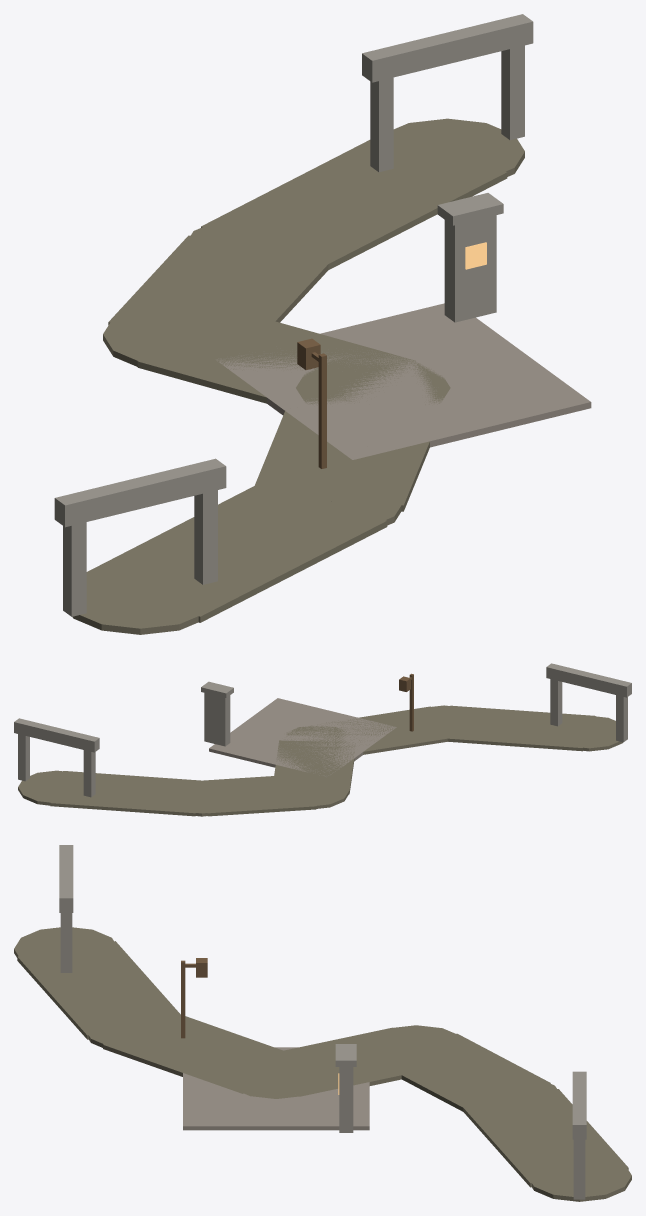
3 views of the same model, one above another, from view 1: azimuth 30°, elevation 25°; view 2: azimuth 150°, elevation 25°; view 3: azimuth 270°, elevation 25° (orthographic). The views are drawn at different scales.
Parts seen in each view (by area): view 1: walk_disc.001, walk_seg.015, walk_seg.019, walk_seg.017, walk_seg.018, walk_node.024, walk_node.023, walk_node.025, walk_node.021, exit_arch.006, exit_arch.007, walk_seg.016 (+9 smaller); view 2: walk_disc.001, walk_seg.019, walk_seg.015, walk_seg.017, walk_seg.018, walk_seg.016, walk_node.021, walk_node.025, exit_arch.006, exit_arch.007, walk_node.020, waystone (+9 smaller); view 3: walk_disc.001, walk_seg.018, walk_seg.015, walk_seg.016, walk_seg.019, walk_seg.017, walk_node.021, walk_node.020, walk_node.025, walk_node.022, walk_node.024, exit_arch.007 (+6 smaller).
Boxes of the visible parts, x1,y1,x2,y2 form: walk_disc.001: (216, 303, 591, 459); walk_seg.015: (86, 479, 387, 622); walk_seg.019: (201, 133, 507, 269); walk_seg.017: (137, 307, 415, 403); walk_seg.018: (108, 235, 332, 336); walk_node.024: (183, 214, 337, 279); walk_node.023: (103, 301, 257, 366); walk_node.025: (387, 118, 524, 183); walk_node.021: (250, 467, 404, 532); exit_arch.006: (54, 458, 226, 527); exit_arch.007: (362, 14, 533, 82); walk_seg.016: (255, 411, 429, 511); walk_disc.001: (209, 698, 396, 776); walk_seg.019: (50, 771, 207, 816); walk_seg.015: (438, 705, 595, 751); walk_seg.017: (272, 740, 355, 794); walk_seg.018: (196, 776, 316, 816); walk_seg.016: (317, 706, 447, 754); walk_node.021: (406, 705, 482, 737); walk_node.025: (18, 770, 86, 805); exit_arch.006: (546, 663, 631, 697); exit_arch.007: (14, 718, 99, 752); walk_node.020: (552, 715, 622, 751); waystone: (204, 693, 230, 746); walk_disc.001: (183, 1047, 369, 1130); walk_seg.018: (386, 1033, 550, 1111); walk_seg.015: (17, 941, 179, 1039); walk_seg.016: (103, 1010, 309, 1093); walk_seg.019: (463, 1089, 628, 1187); walk_seg.017: (260, 1027, 415, 1096); walk_node.021: (84, 1005, 188, 1048); walk_node.020: (14, 927, 118, 970); walk_node.025: (532, 1154, 631, 1201); walk_node.022: (224, 1057, 310, 1098); walk_node.024: (467, 1083, 558, 1118); exit_arch.007: (572, 1071, 586, 1139).
Bounding box in the file's own units: 28.4 × 3.85 × 26.5.
